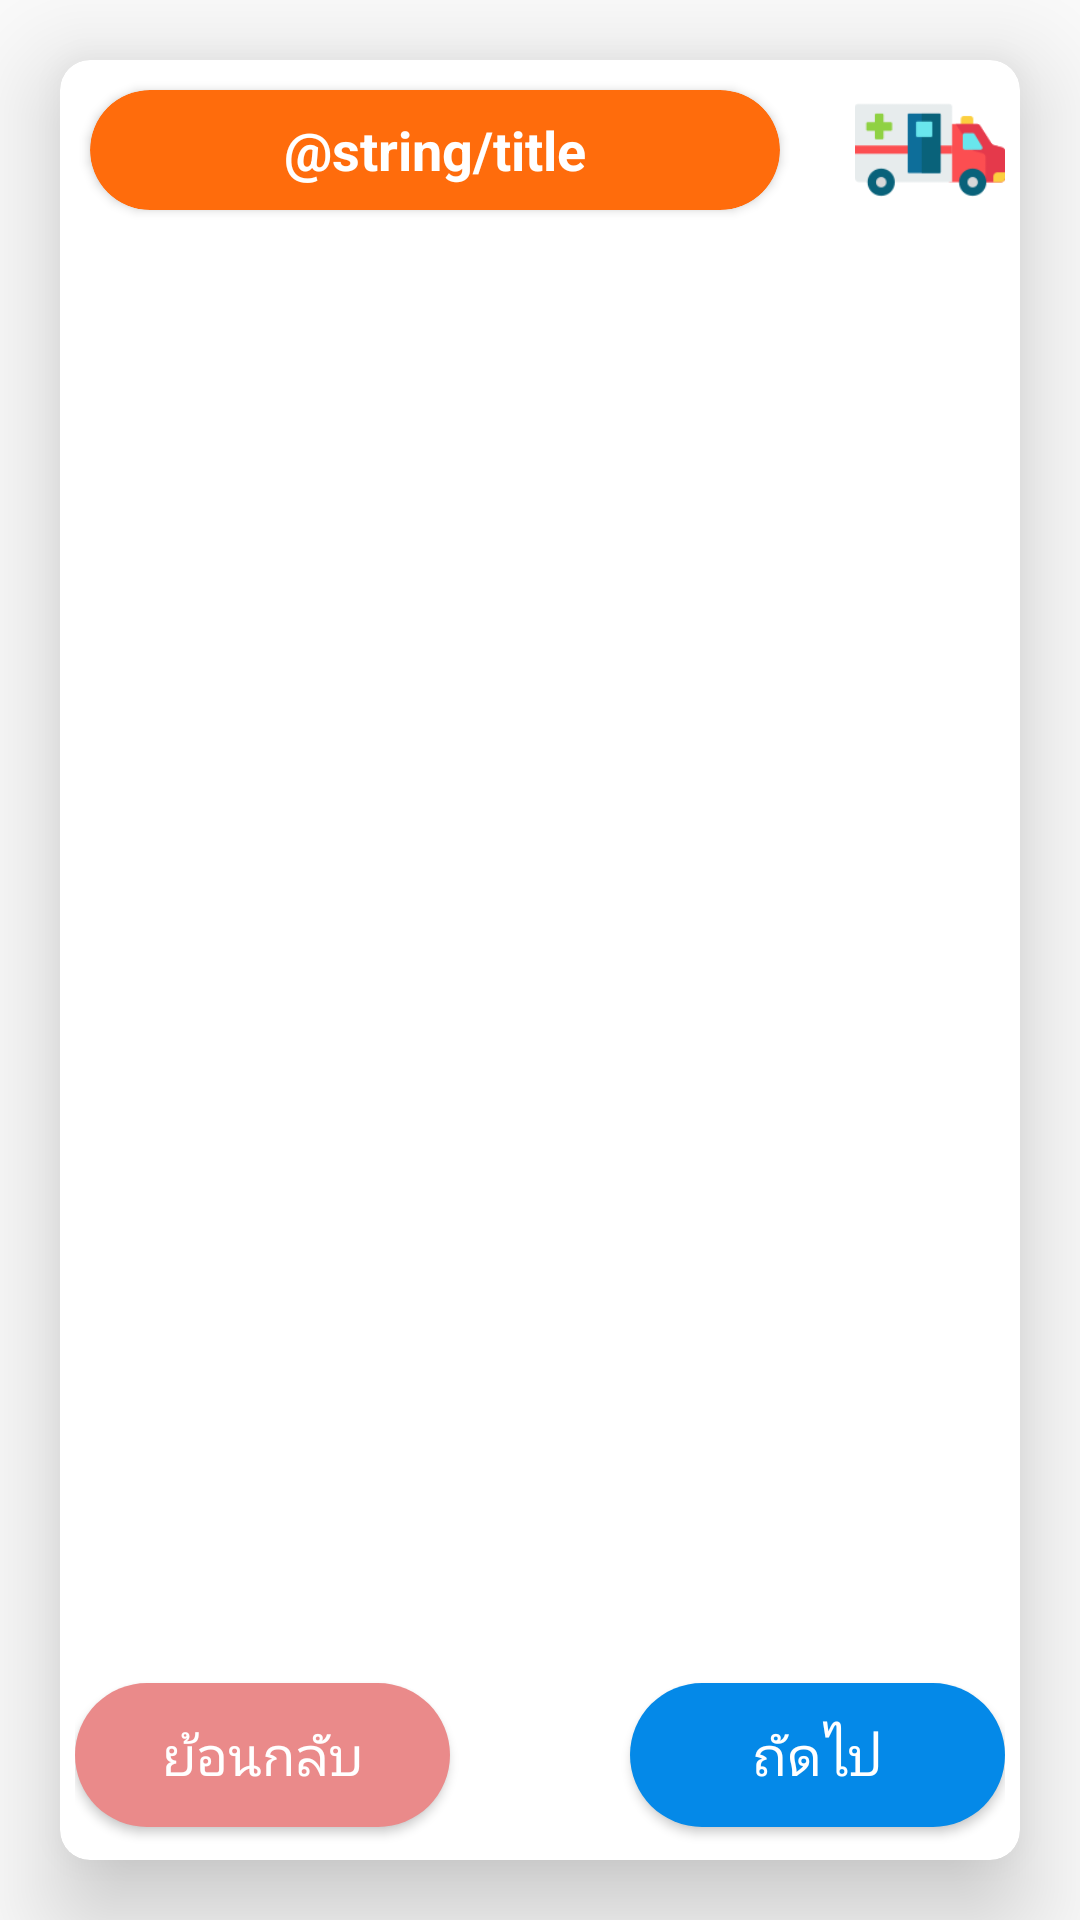

Icons on this 1080px x 1920px Android screen, each with the point to tap as point (x, y):
ambulance: point (930, 154)
